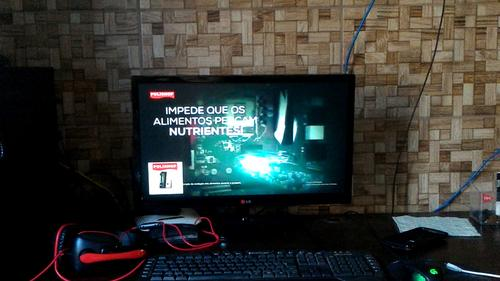Polishop #1: (148, 161, 185, 194)
